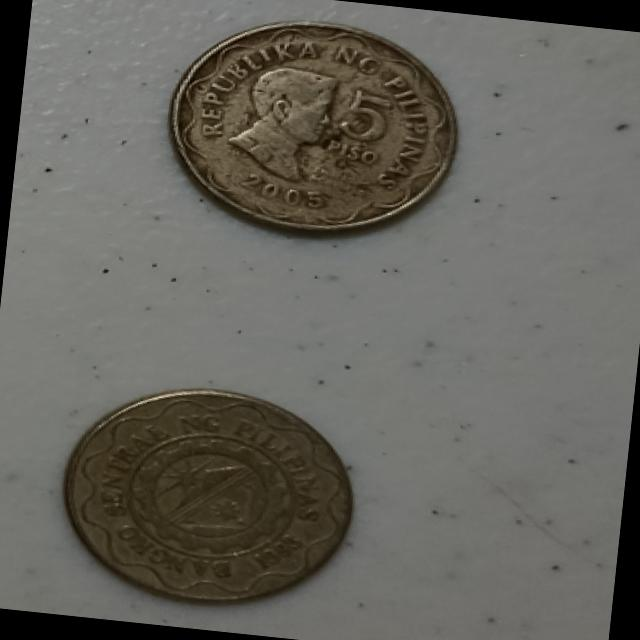5_peso: (64, 389, 350, 601), (170, 21, 455, 229)
